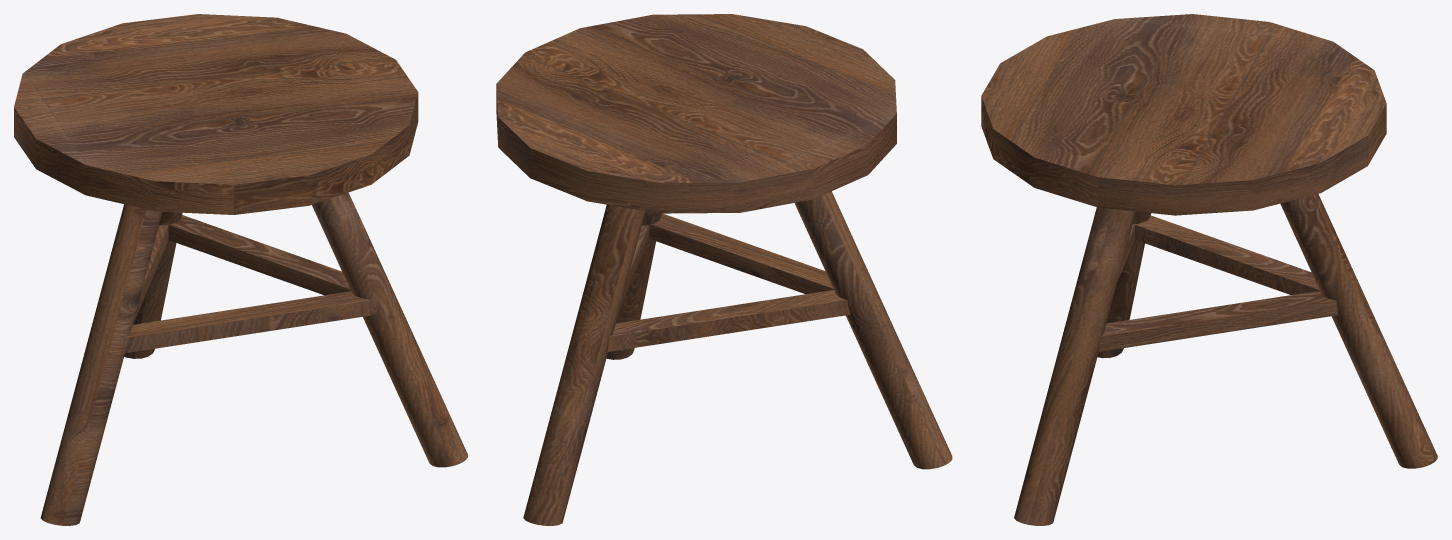
File: sgabello.gltf
3 views of the same model, side by side, from view 1: azimuth 30°, elevation 25°; view 2: azimuth 150°, elevation 25°; view 3: azimuth 270°, elevation 25° (orthographic).
Parts seen in each view (by area): view 1: Cylinder305_temn vert_0; view 2: Cylinder305_temn vert_0; view 3: Cylinder305_temn vert_0.
Boxes of the visible parts, x1,y1,x2,y2 form: Cylinder305_temn vert_0: (14, 14, 467, 525); Cylinder305_temn vert_0: (496, 14, 952, 525); Cylinder305_temn vert_0: (981, 14, 1437, 525).
Bounding box in the file's own units: 1.38 × 1.18 × 1.41.
